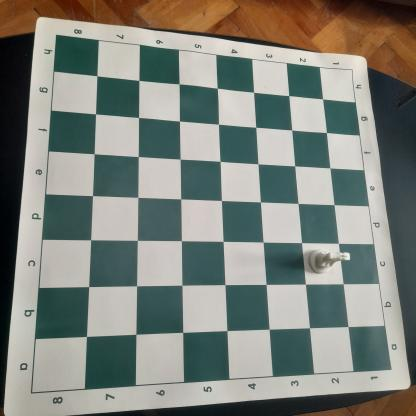white-knight: (308, 248, 351, 274)
